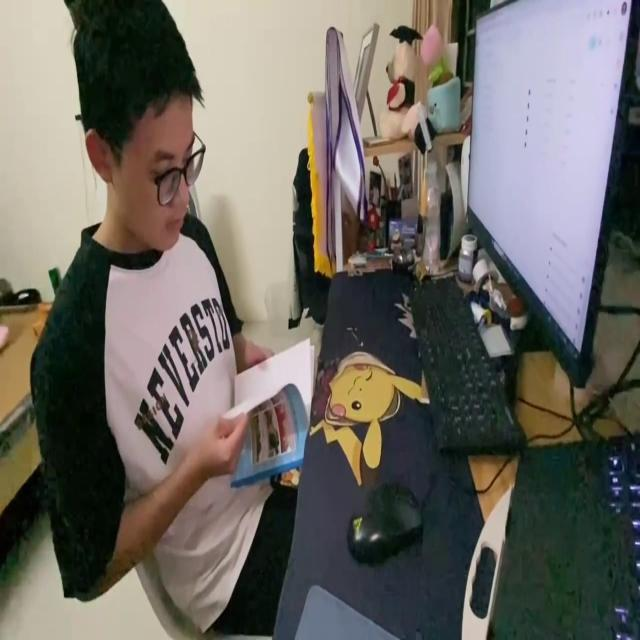book: (217, 337, 317, 487)
laptop: (464, 0, 640, 388)
student: (29, 0, 302, 631)
